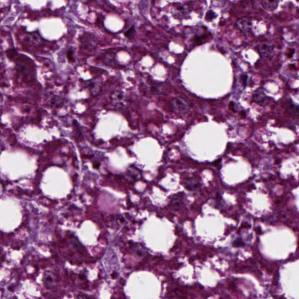steatosis: (179, 46, 240, 101), (135, 212, 179, 254), (184, 119, 230, 159), (40, 162, 74, 199)
